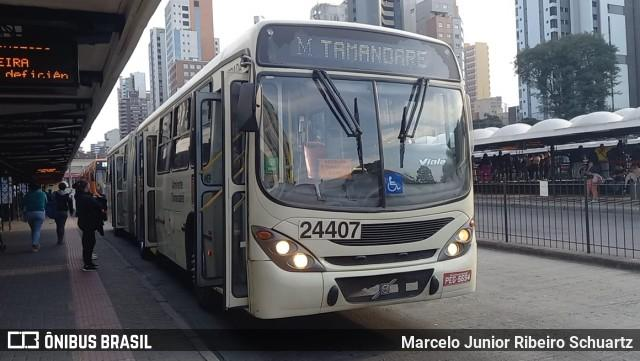TAMANDARE: (318, 34, 434, 72)
